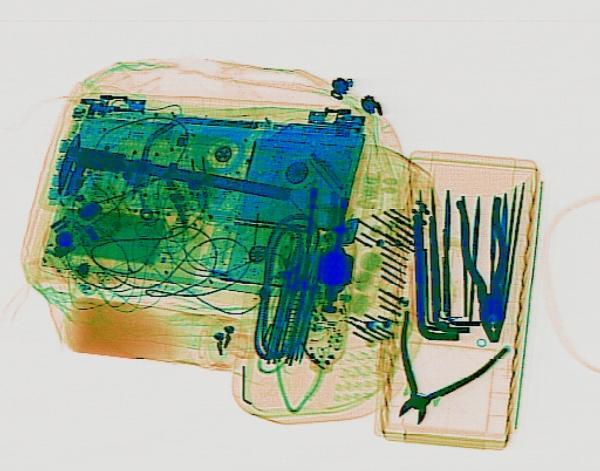Pliers: (353, 308, 514, 437), (454, 196, 520, 343)
